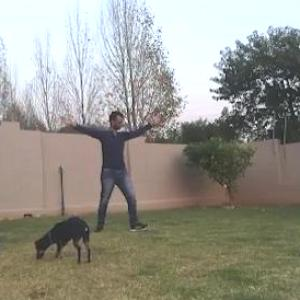takeoff: (36, 105, 158, 243)
